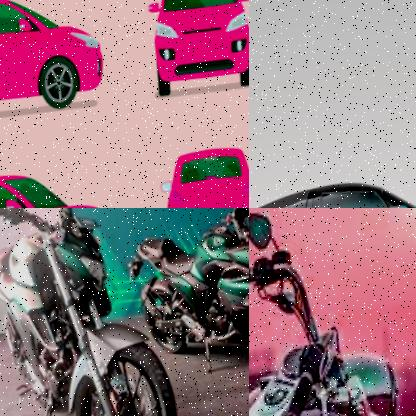bike: (0, 208, 213, 416), (249, 208, 416, 416), (117, 208, 249, 392)
car: (127, 0, 249, 97), (249, 147, 416, 208), (0, 150, 146, 208), (153, 136, 249, 208)
